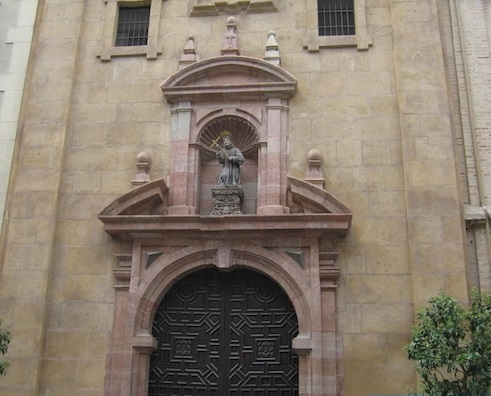arco-medio-punto: (133, 243, 311, 365)
fronton-curvo: (158, 53, 302, 101)
fronton-partido: (93, 172, 355, 238)
